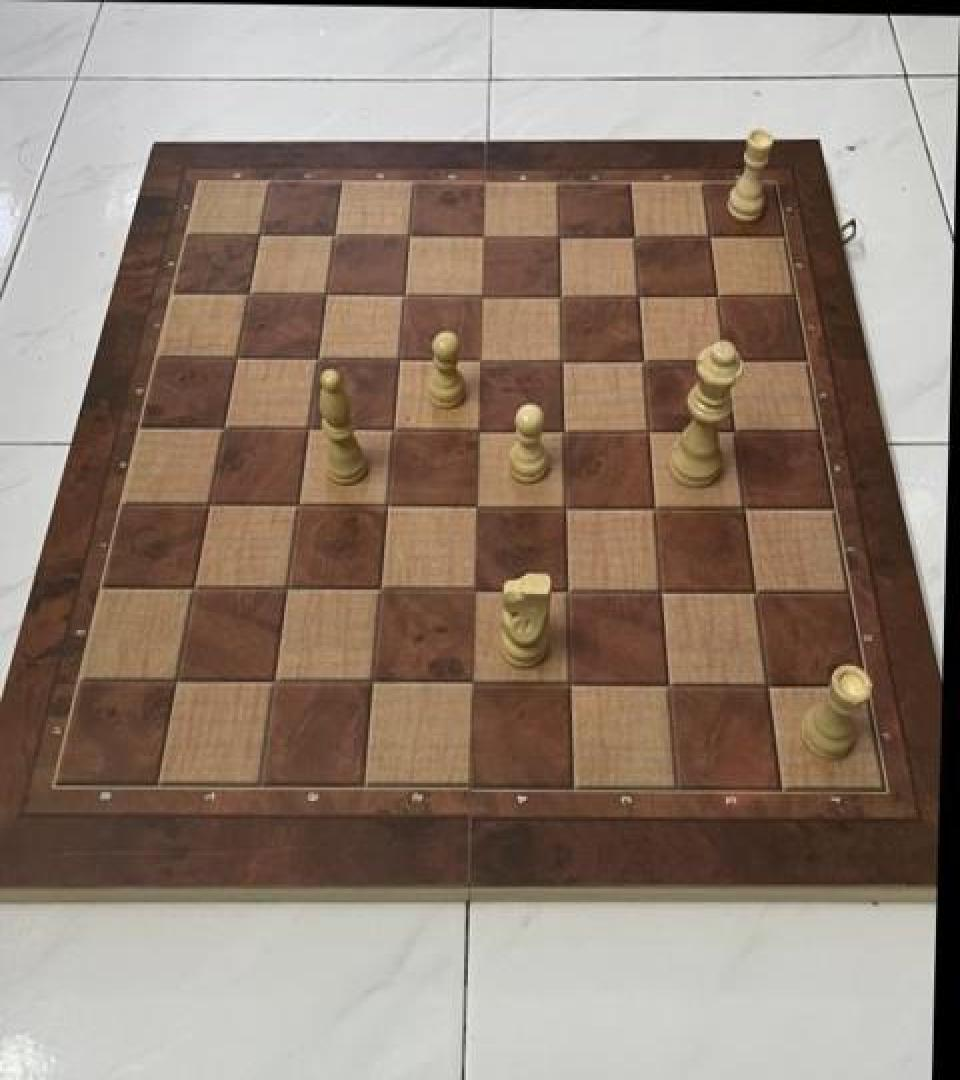xcorner: (752, 669, 786, 708), (243, 215, 277, 253), (318, 215, 352, 253), (393, 216, 427, 254), (469, 216, 503, 254), (544, 216, 578, 254), (620, 216, 654, 254), (696, 217, 730, 255), (232, 274, 266, 312), (310, 276, 344, 314), (388, 276, 422, 314), (467, 276, 501, 314), (546, 277, 580, 315), (624, 277, 658, 315), (703, 277, 737, 315), (220, 340, 254, 378), (301, 340, 335, 378), (383, 341, 417, 379), (465, 341, 499, 379), (547, 341, 581, 379), (629, 342, 663, 380), (711, 342, 745, 380), (207, 410, 241, 448), (292, 411, 326, 449), (377, 411, 411, 449), (463, 412, 497, 450), (548, 412, 582, 450), (634, 413, 668, 451), (720, 413, 754, 451), (193, 487, 227, 525), (282, 487, 316, 525), (371, 488, 405, 526), (460, 488, 494, 526), (550, 490, 584, 528), (640, 490, 674, 528), (730, 490, 764, 528), (177, 572, 211, 610), (271, 572, 305, 610), (364, 573, 398, 611), (458, 574, 492, 612), (552, 574, 586, 612), (646, 575, 680, 613), (740, 576, 774, 614), (160, 664, 194, 702), (258, 665, 292, 703), (357, 666, 391, 704), (455, 667, 489, 705), (554, 667, 588, 705), (653, 668, 687, 706)
